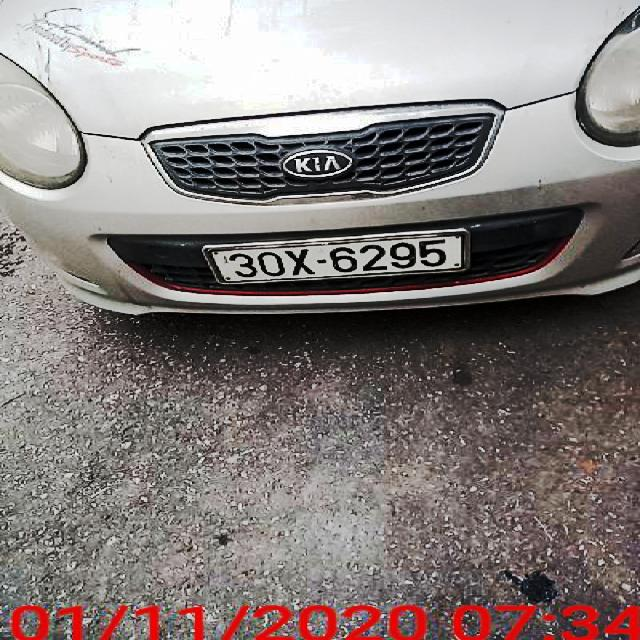license_plate: (200, 228, 470, 283)
